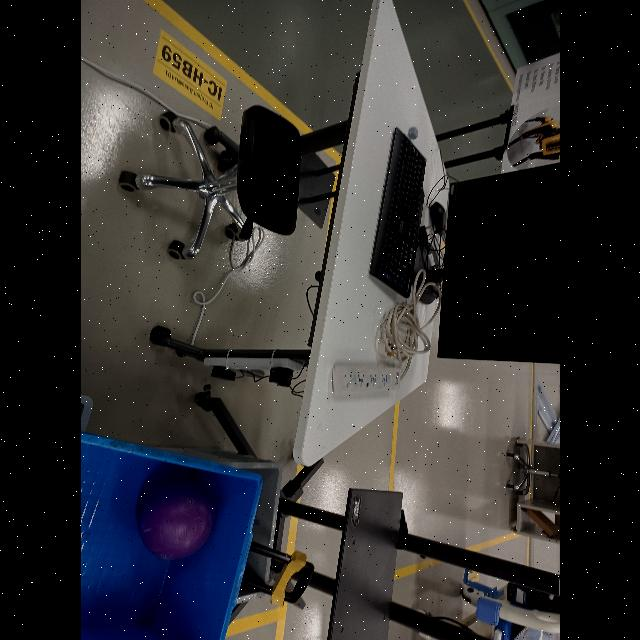P: (136, 478, 214, 560)
